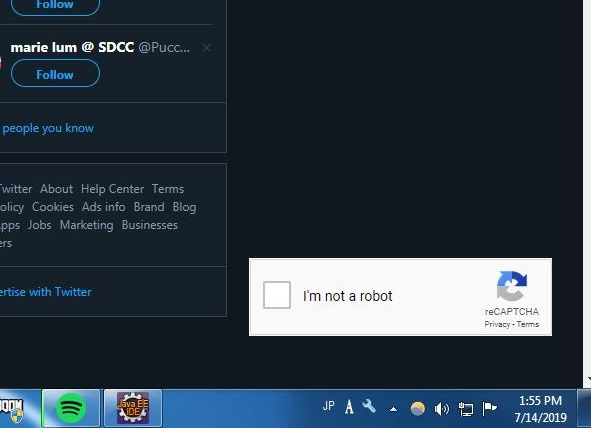captcha: (263, 281, 397, 309)
